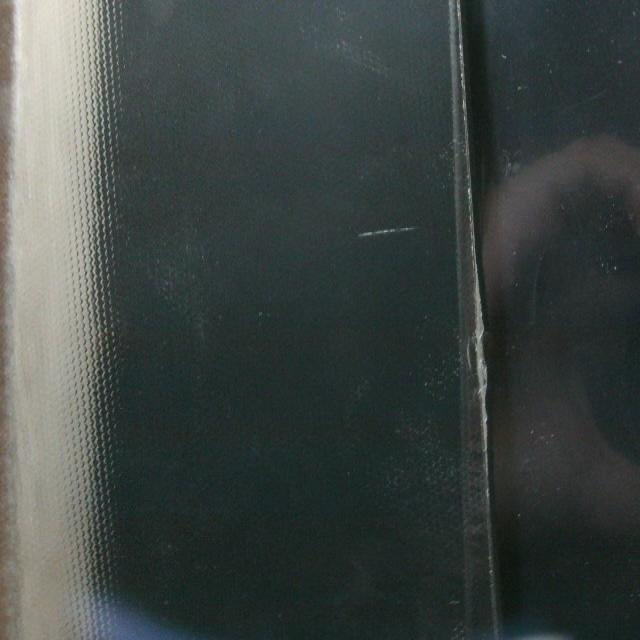edge_chip: (465, 243, 501, 477)
scratch: (349, 215, 426, 255)
